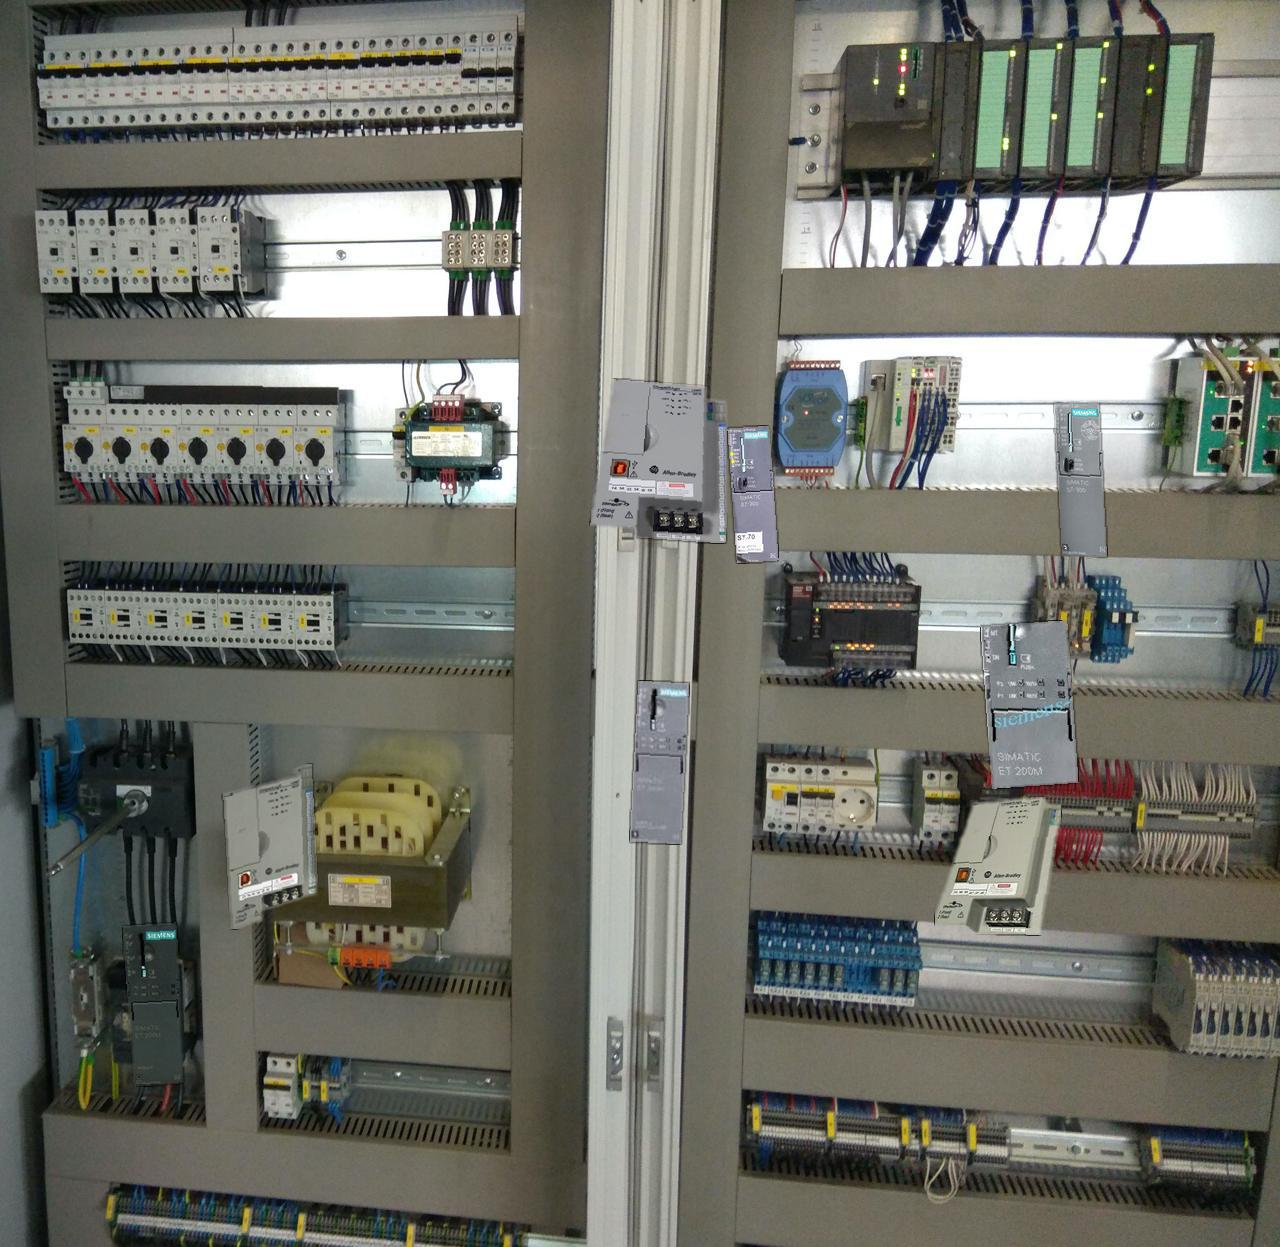AllenBradley: (590, 379, 726, 542), (935, 797, 1061, 934), (223, 764, 315, 928)
Siemens: (1055, 403, 1106, 555), (727, 426, 778, 562)
